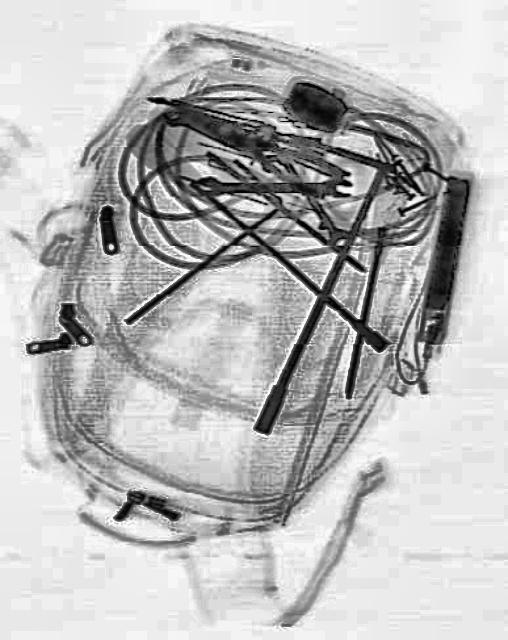Wrench: (252, 114, 354, 256), (190, 174, 352, 196)
